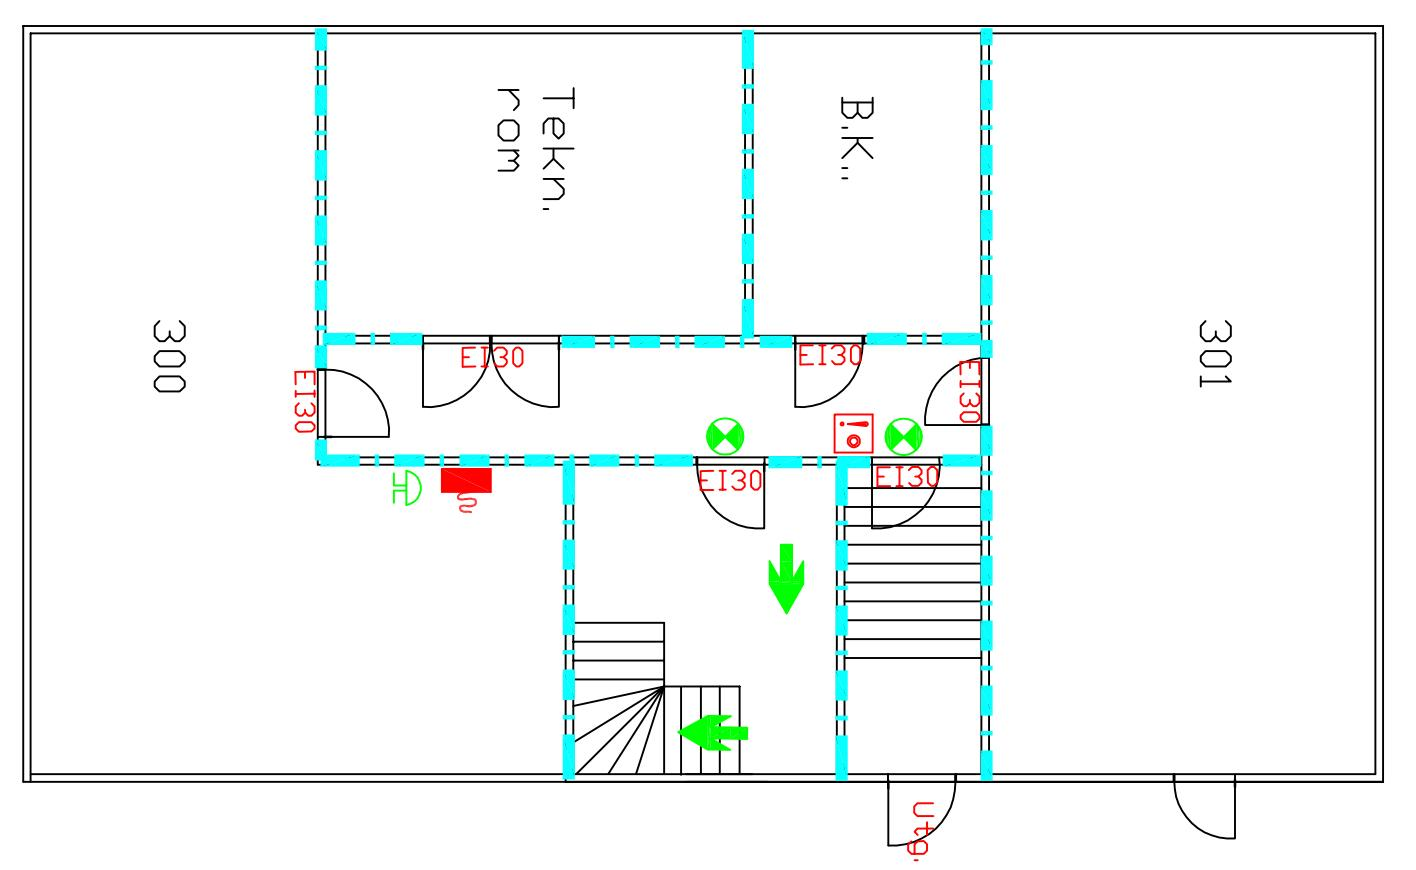room: (26, 30, 567, 779), (987, 28, 1377, 777), (321, 27, 746, 338), (747, 23, 984, 340)
